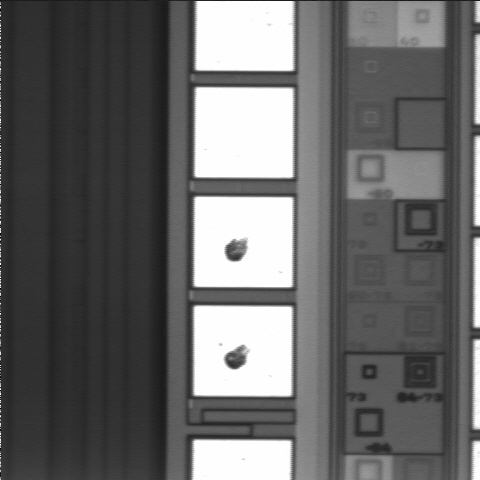pad: (195, 87, 293, 178), (194, 197, 293, 287), (194, 306, 292, 396)
